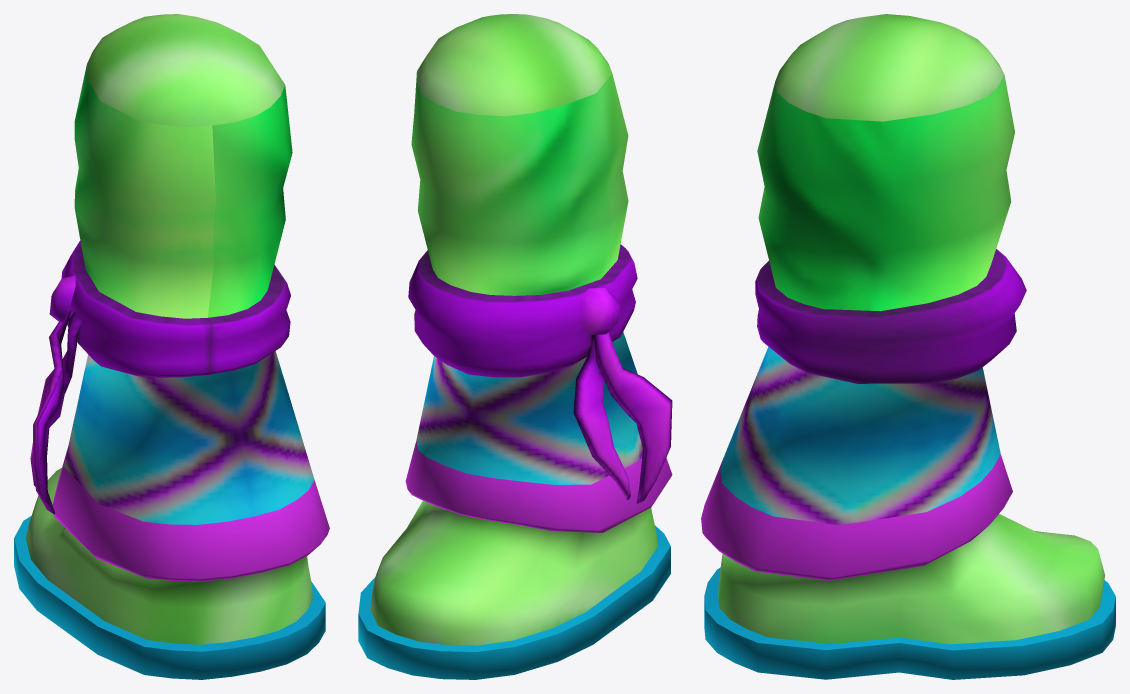
3 views of the same model, side by side, from view 1: azimuth 30°, elevation 25°; view 2: azimuth 150°, elevation 25°; view 3: azimuth 270°, elevation 25° (orthographic). The views are drawn at different scales.
Visible parts, largest first — view 1: Mesh; view 2: Mesh; view 3: Mesh.
Boxes of the visible parts, bbox=[...] form: Mesh: bbox=[14, 14, 329, 679]; Mesh: bbox=[358, 14, 672, 679]; Mesh: bbox=[701, 14, 1115, 679].
Bounding box in the file's own units: 1.08 × 2.34 × 1.45.
